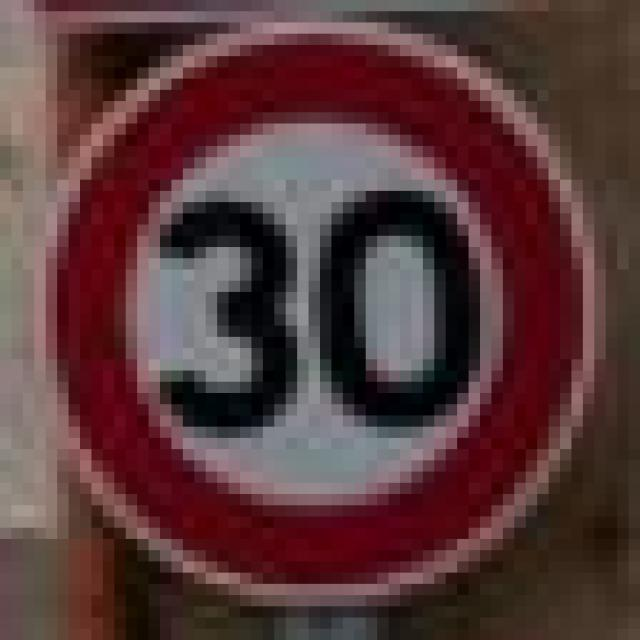speed_limit_30: (34, 11, 572, 595)
